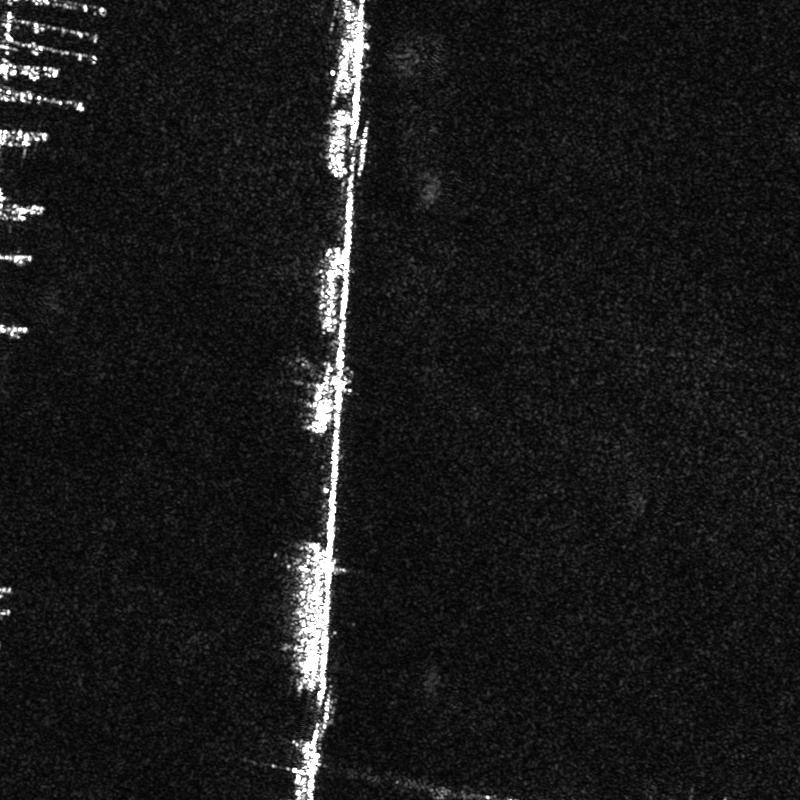ship: (299, 542, 325, 691), (335, 0, 359, 95), (319, 247, 342, 333), (310, 365, 332, 433), (328, 110, 349, 178)
